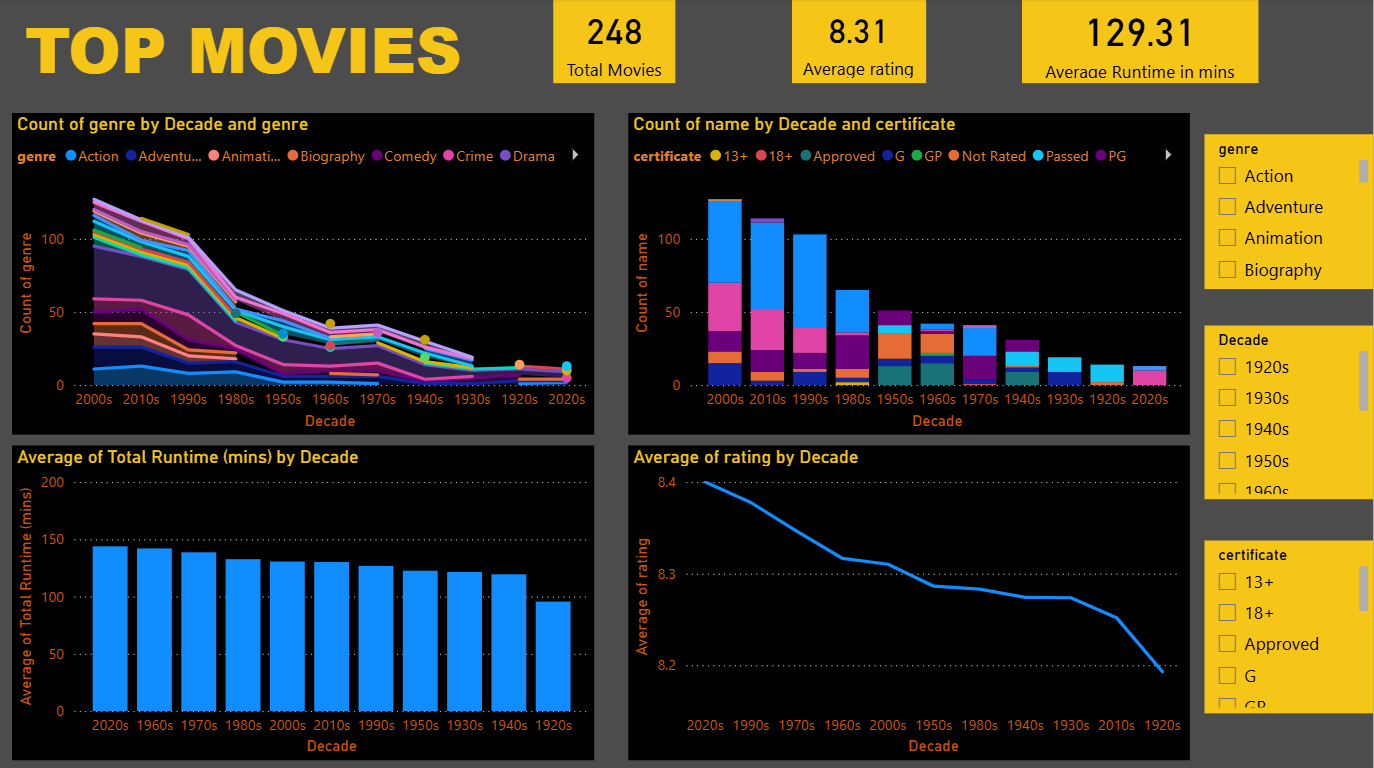

The page's visual inventory and layout, read from the dashboard file:
{"tool":"powerbi","page":{"name":"Page 1","canvas":[1280,720],"ordinal":0},"visuals":[{"type":"textbox","box":[14,0,430.2,107],"z":0},{"type":"stackedAreaChart","fields":{"Category":["IMDB Top 250 Movies.Decade"],"Y":["CountNonNull(IMDB Top 250 Movies.genre)"],"Series":["IMDB Top 250 Movies.genre"]},"box":[14,107,541.9,298.8],"z":1000},{"type":"clusteredColumnChart","fields":{"Category":["IMDB Top 250 Movies.Decade"],"Y":["Avg(IMDB Top 250 Movies.Total Runtime (mins))"]},"box":[14,416.3,541.9,293],"z":2000},{"type":"columnChart","fields":{"Category":["IMDB Top 250 Movies.Decade"],"Y":["CountNonNull(IMDB Top 250 Movies.name)"],"Series":["IMDB Top 250 Movies.certificate"]},"box":[587.2,107,522.1,298.8],"z":3000},{"type":"lineChart","fields":{"Category":["IMDB Top 250 Movies.Decade"],"Y":["Avg(IMDB Top 250 Movies.rating)"]},"box":[587.2,416.3,522.1,293],"z":4000},{"type":"slicer","fields":{"Values":["IMDB Top 250 Movies.Decade"]},"box":[1123.3,304.7,157,161.6],"z":5000},{"type":"card","fields":{"Values":["Count(IMDB Top 250 Movies.name)"]},"box":[517.4,0,114,79.1],"z":6000},{"type":"slicer","fields":{"Values":["IMDB Top 250 Movies.certificate"]},"box":[1123.3,504.7,157,160.5],"z":7000},{"type":"card","fields":{"Values":["Avg(IMDB Top 250 Movies.rating)"]},"box":[739.5,0,124.4,79.1],"z":8000},{"type":"card","fields":{"Values":["Avg(IMDB Top 250 Movies.Total Runtime (mins))"]},"box":[953.5,0,219.8,79.1],"z":9000},{"type":"slicer","fields":{"Values":["IMDB Top 250 Movies.genre"]},"box":[1123.3,126.7,157,144.2],"z":10000}]}

Visuals, with their boxes in screenshot pixels (x1, y1, x2, y2), scaled from the page's 1280x720 canvas onto the 1374x768 screenshot:
textbox: l=15, t=0, r=477, b=114
stackedAreaChart - IMDB Top 250 Movies.Decade x CountNonNull(IMDB Top 250 Movies.genre): l=15, t=114, r=597, b=433
clusteredColumnChart - IMDB Top 250 Movies.Decade x Avg(IMDB Top 250 Movies.Total Runtime (mins)): l=15, t=444, r=597, b=757
columnChart - IMDB Top 250 Movies.Decade x CountNonNull(IMDB Top 250 Movies.name): l=630, t=114, r=1191, b=433
lineChart - IMDB Top 250 Movies.Decade x Avg(IMDB Top 250 Movies.rating): l=630, t=444, r=1191, b=757
slicer - IMDB Top 250 Movies.Decade: l=1206, t=325, r=1373, b=497
card - Count(IMDB Top 250 Movies.name): l=555, t=0, r=678, b=84
slicer - IMDB Top 250 Movies.certificate: l=1206, t=538, r=1373, b=710
card - Avg(IMDB Top 250 Movies.rating): l=794, t=0, r=927, b=84
card - Avg(IMDB Top 250 Movies.Total Runtime (mins)): l=1024, t=0, r=1259, b=84
slicer - IMDB Top 250 Movies.genre: l=1206, t=135, r=1373, b=289
